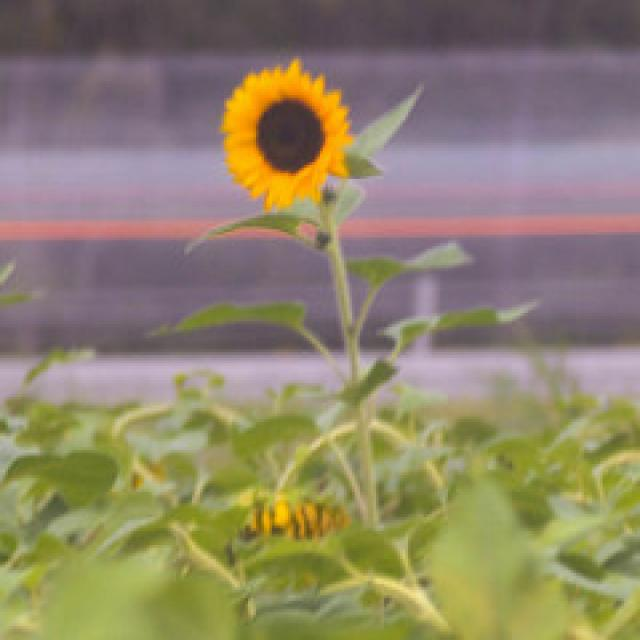sunflower: (212, 57, 359, 222)
